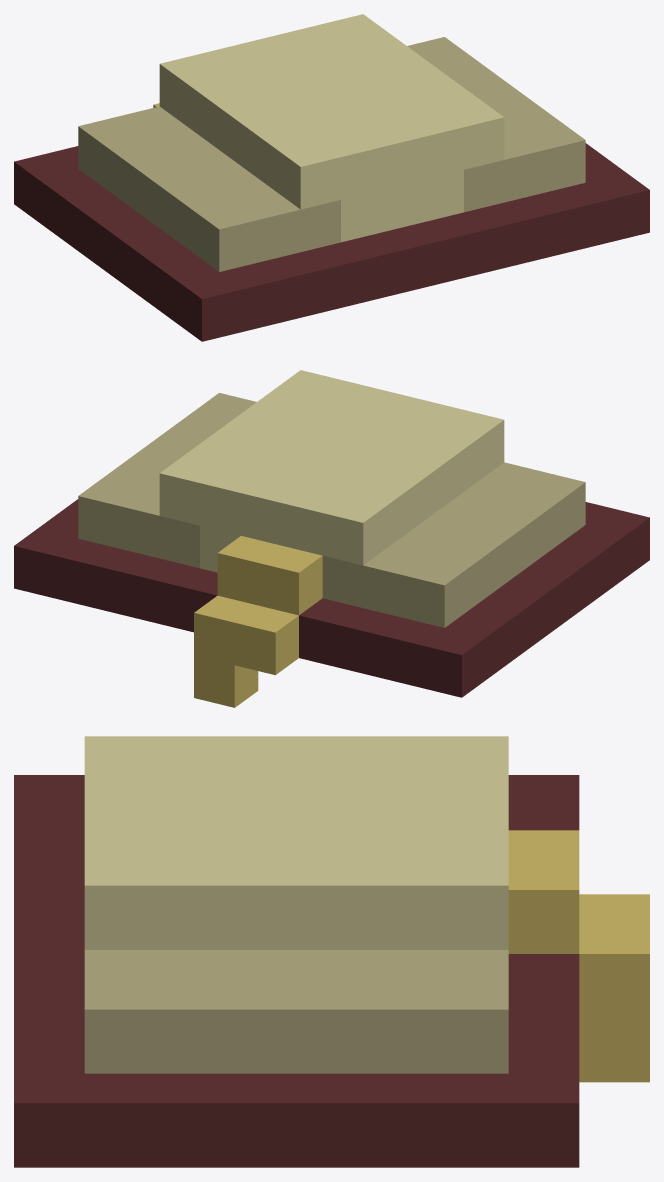
Rendered from Book.fbx.
3 renders of one model, top to bottom at view 1: azimuth 30°, elevation 25°; view 2: azimuth 150°, elevation 25°; view 3: azimuth 270°, elevation 25°, orthographic. The views are drawn at different scales.
Parts seen in each view (by area): view 1: Book.Merged; view 2: Book.Merged; view 3: Book.Merged.
Boxes of the visible parts, x1,y1,x2,y2 form: Book.Merged: (14, 14, 649, 341); Book.Merged: (14, 370, 649, 707); Book.Merged: (14, 736, 649, 1167).
Bounding box in the file's own units: 0.737 × 0.268 × 0.603.
